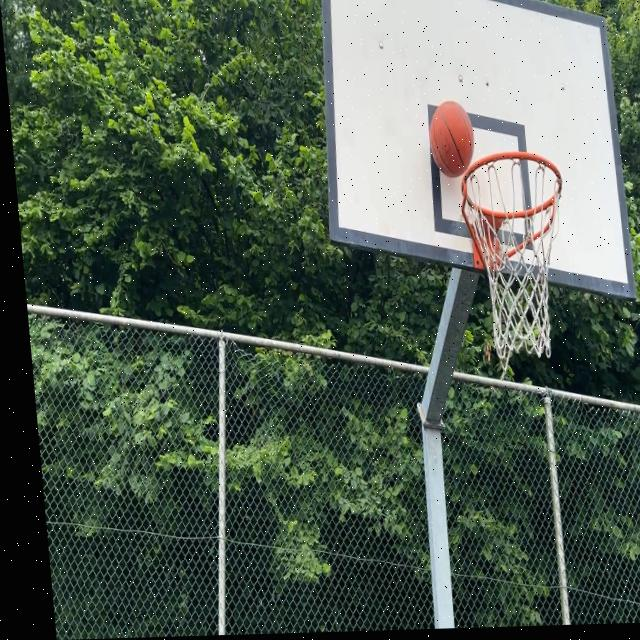rebound_hit: (426, 99, 478, 179)
